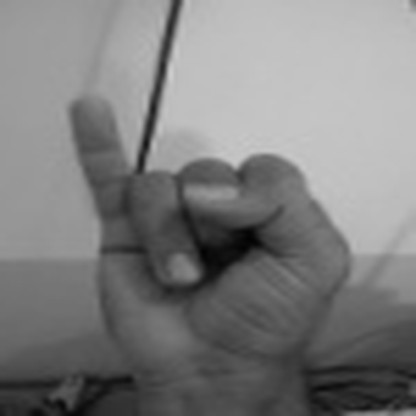i: (56, 91, 355, 385)
